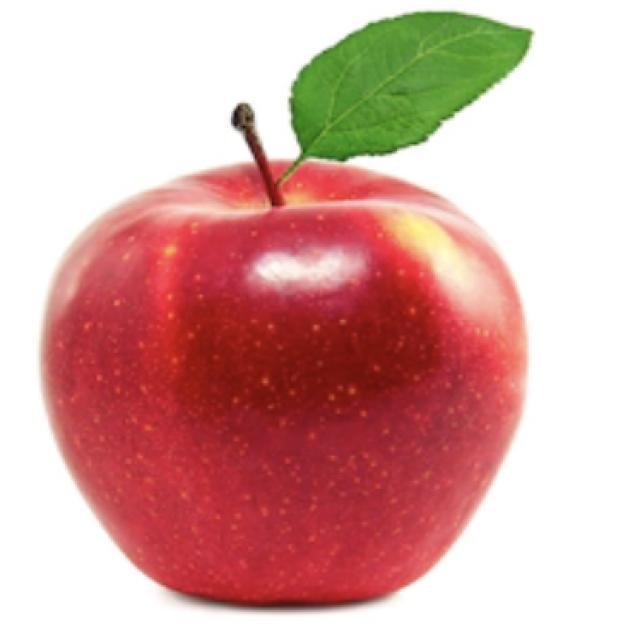Fresh Apple: (55, 152, 520, 605)
